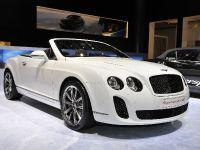Car: (3, 33, 192, 134), (145, 42, 200, 98)
